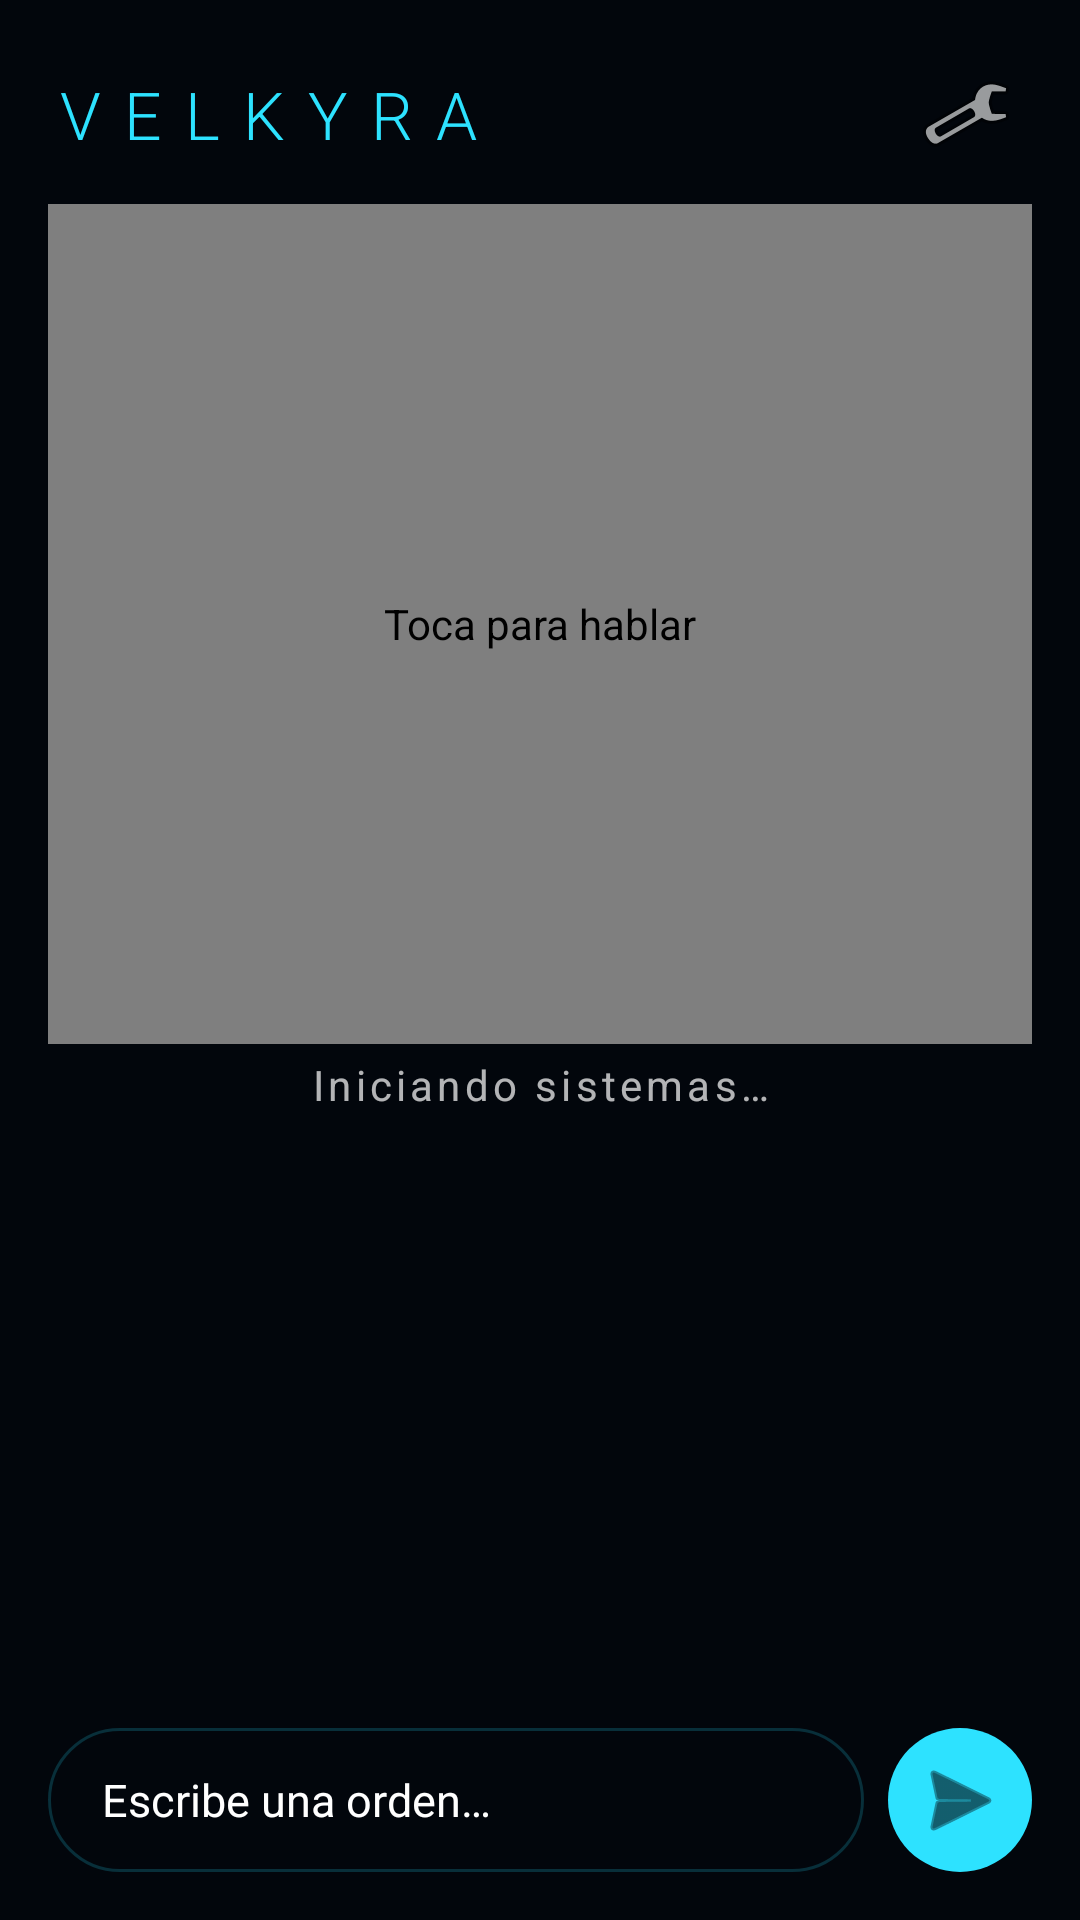

Icon click points for this 1080 × 1920 phone screenshot, format (x,y):
Ajustes: (966,114)
Enviar: (960,1800)
